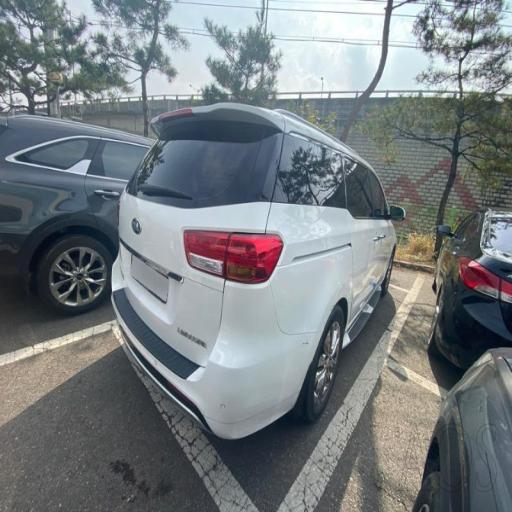scratch: (205, 325, 246, 381)
